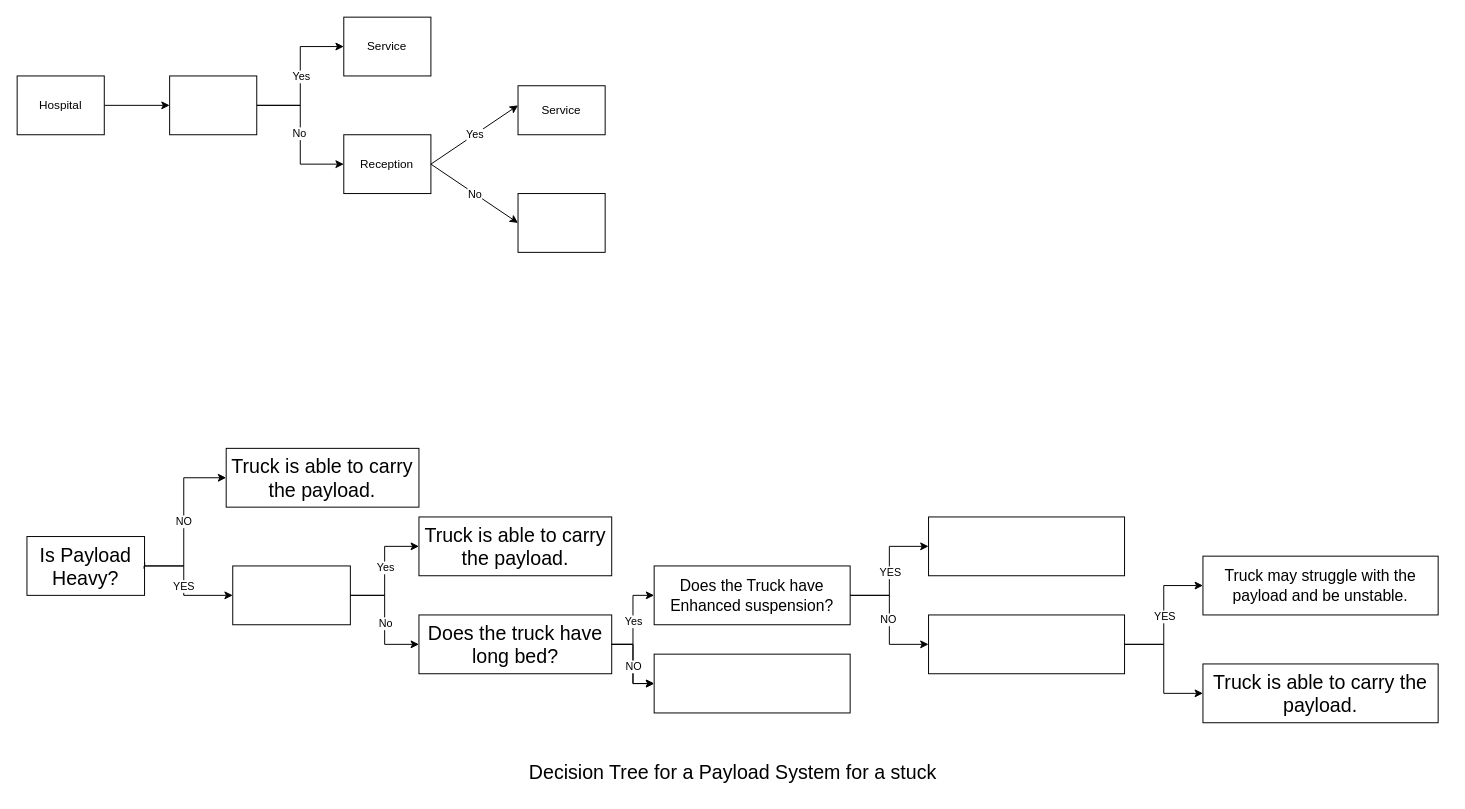
This 1465x809 diagram has some shape labels left out. The box of each missing label's shape, as (x1, y1, x2, y2) in pixels:
Emergency: (169, 75, 257, 135)
get first: (517, 193, 605, 252)
Heavy duty Truck?: (232, 565, 350, 625)
Is the payload bilky and shaped wierd?: (928, 614, 1125, 674)
Truck is able to carry the payload with some stability.: (928, 516, 1125, 576)
Truck will struggle with the payload.: (653, 653, 850, 713)
